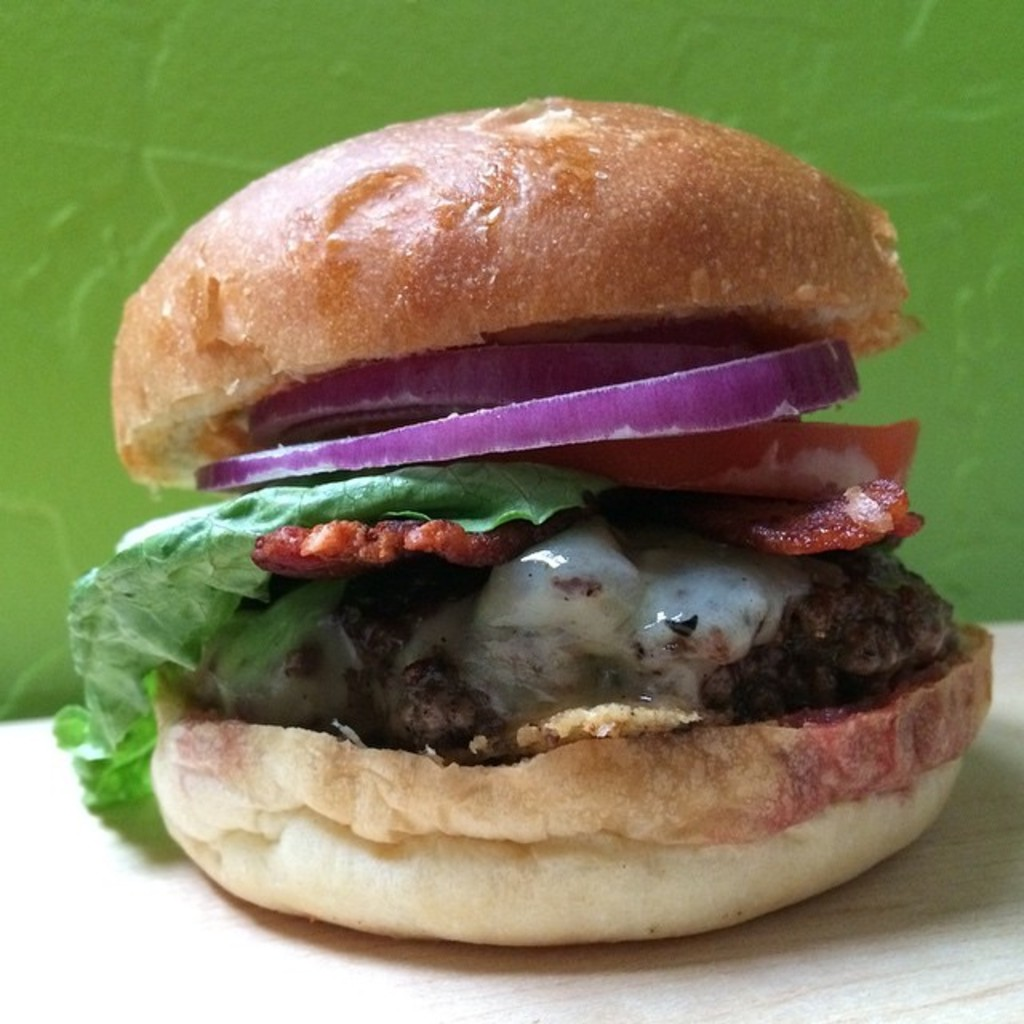Hamburger: (44, 96, 988, 945)
